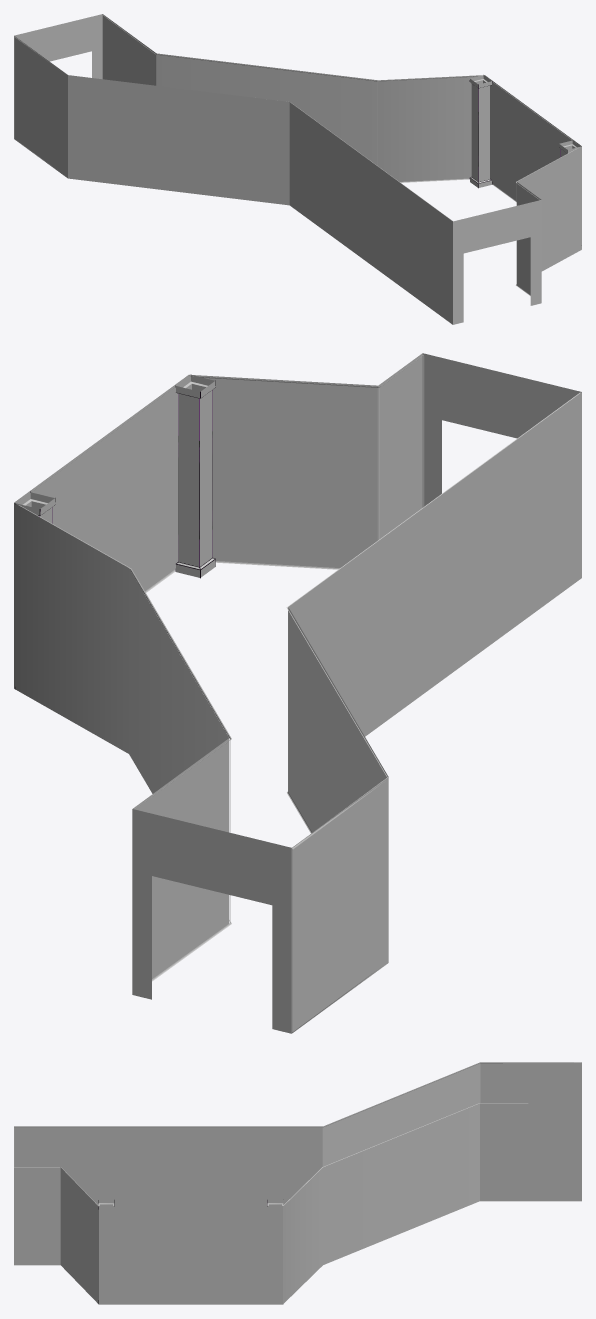
The model's file is Blue_Locker_Wall.fbx.
3 renders of one model, top to bottom at view 1: azimuth 30°, elevation 25°; view 2: azimuth 150°, elevation 25°; view 3: azimuth 270°, elevation 25°, orthographic. The views are drawn at different scales.
Parts seen in each view (by area): view 1: Side_Wall1, Pillar_Border; view 2: Side_Wall1, Pillar_Border; view 3: Side_Wall1, Pillar_Border.
Part boxes in pixels (bbox=[...]): Side_Wall1: bbox=[14, 14, 581, 324]; Pillar_Border: bbox=[14, 15, 578, 295]; Side_Wall1: bbox=[14, 353, 581, 1033]; Pillar_Border: bbox=[15, 354, 580, 1032]; Side_Wall1: bbox=[14, 1062, 581, 1304]; Pillar_Border: bbox=[14, 1062, 580, 1303].
Bounding box in the file's own units: 3281 × 1040 × 5450.
